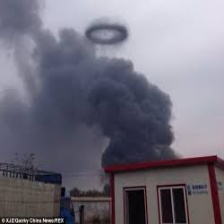smoke: (8, 3, 183, 172)
